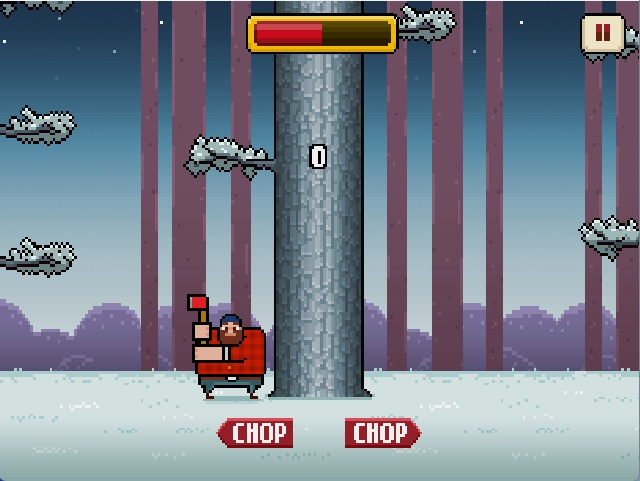left_obs: (180, 127, 281, 189)
timberman: (179, 290, 274, 405)
